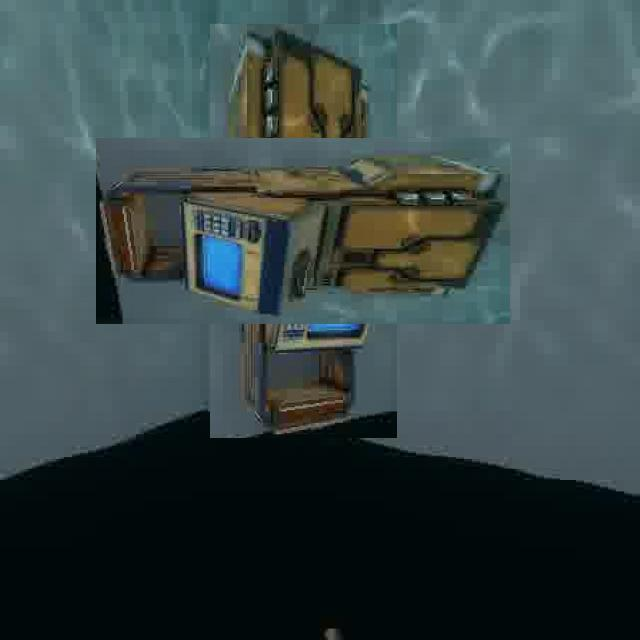Control Panel: (154, 80, 454, 382)
